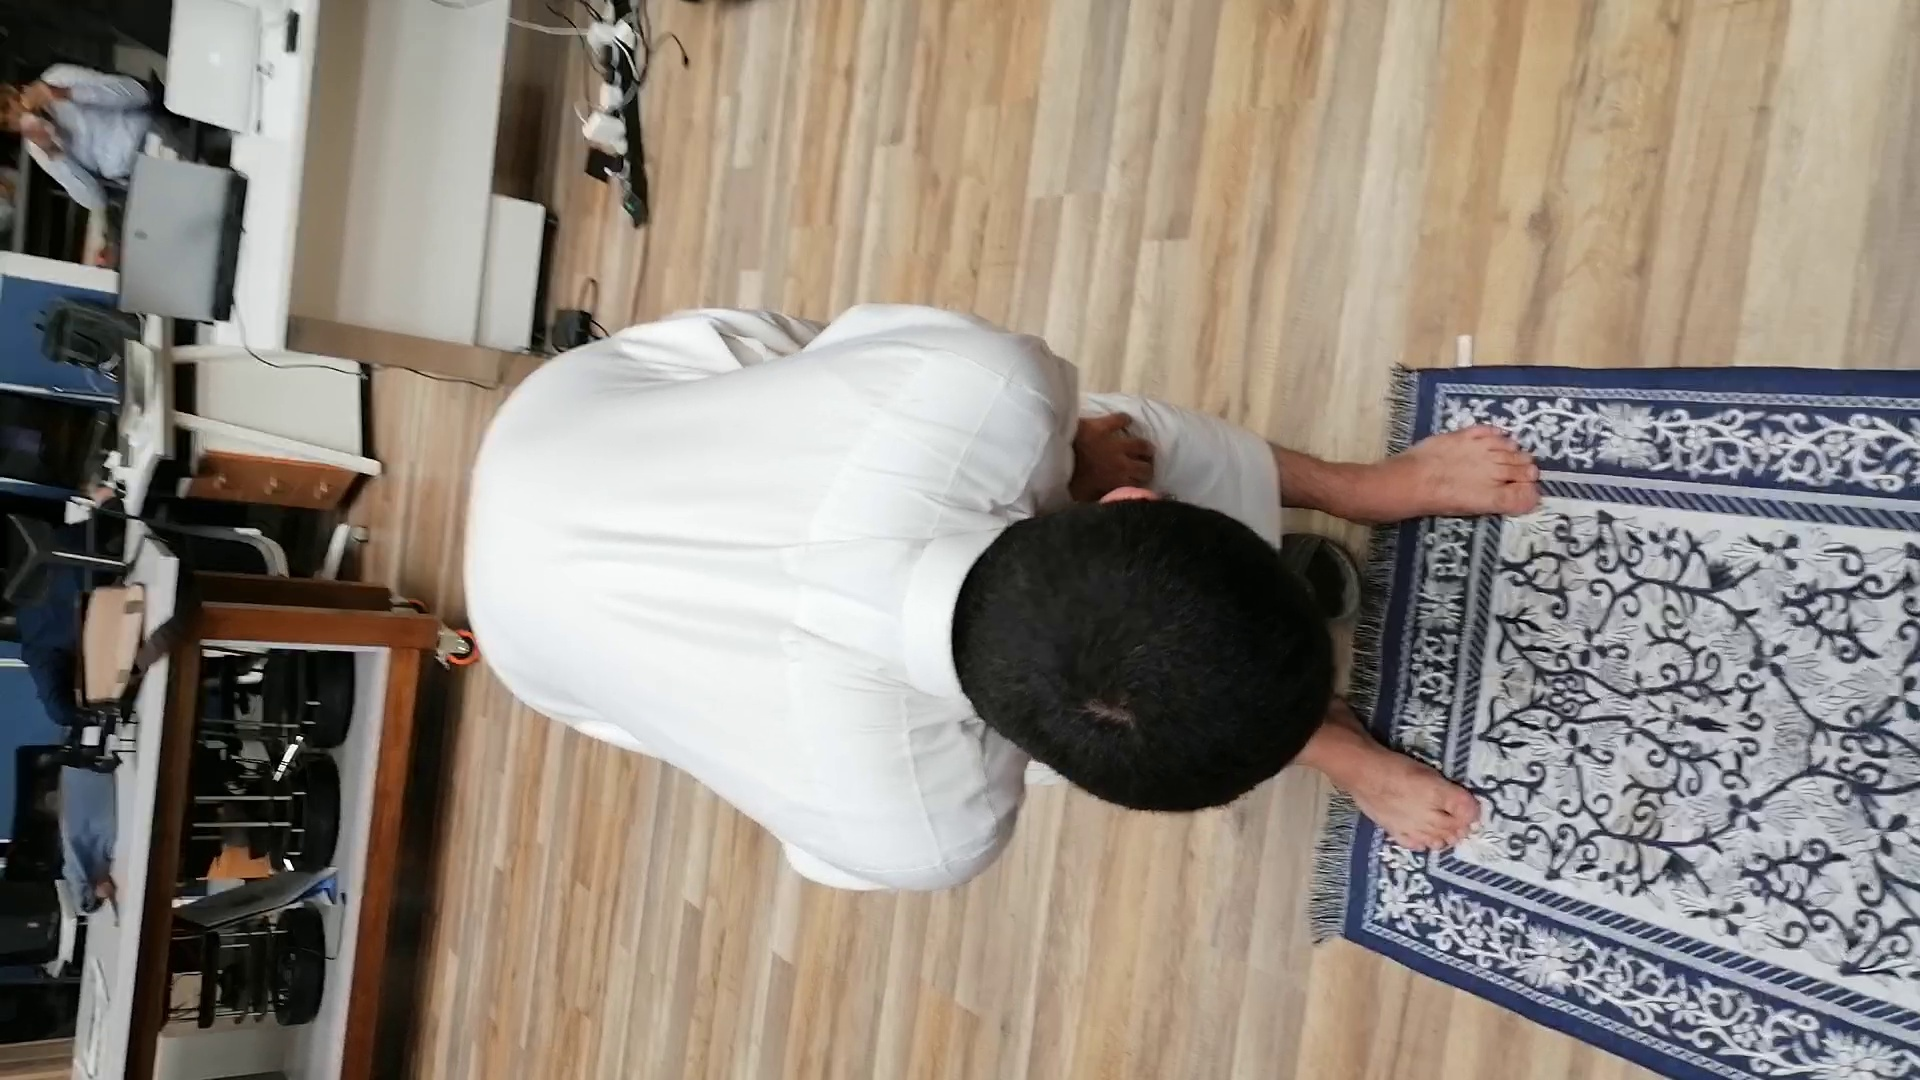ruku: (255, 182, 1646, 934)
